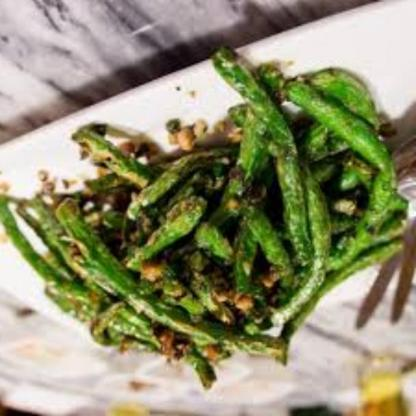fasol: (0, 64, 404, 403)
